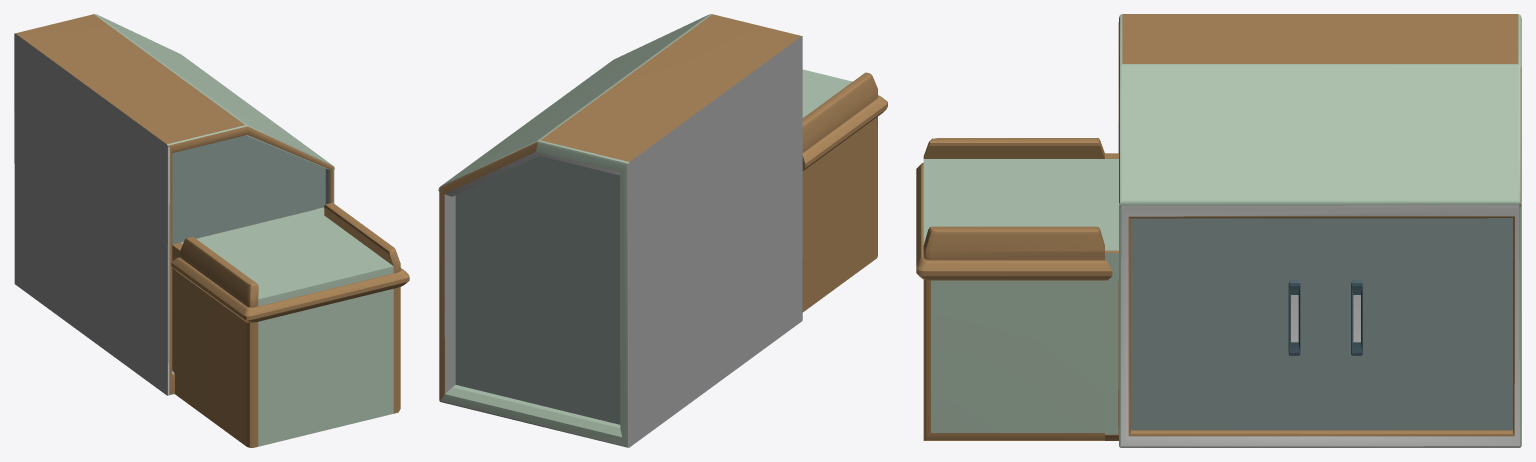
The model's file is cabinet1_v2.fbx.
The picture shows the model from 3 angles, left to right: view 1: azimuth 30°, elevation 25°; view 2: azimuth 150°, elevation 25°; view 3: azimuth 270°, elevation 25°; orthographic projection. The views are drawn at different scales.
Visible parts, largest first — view 1: checkout_stand1; view 2: checkout_stand1; view 3: checkout_stand1.
Part boxes in pixels (<box>): checkout_stand1: <box>14,14,409,447</box>; checkout_stand1: <box>438,14,887,447</box>; checkout_stand1: <box>916,14,1521,447</box>.
Bounding box in the file's own units: 2.21 × 3.17 × 5.3.
